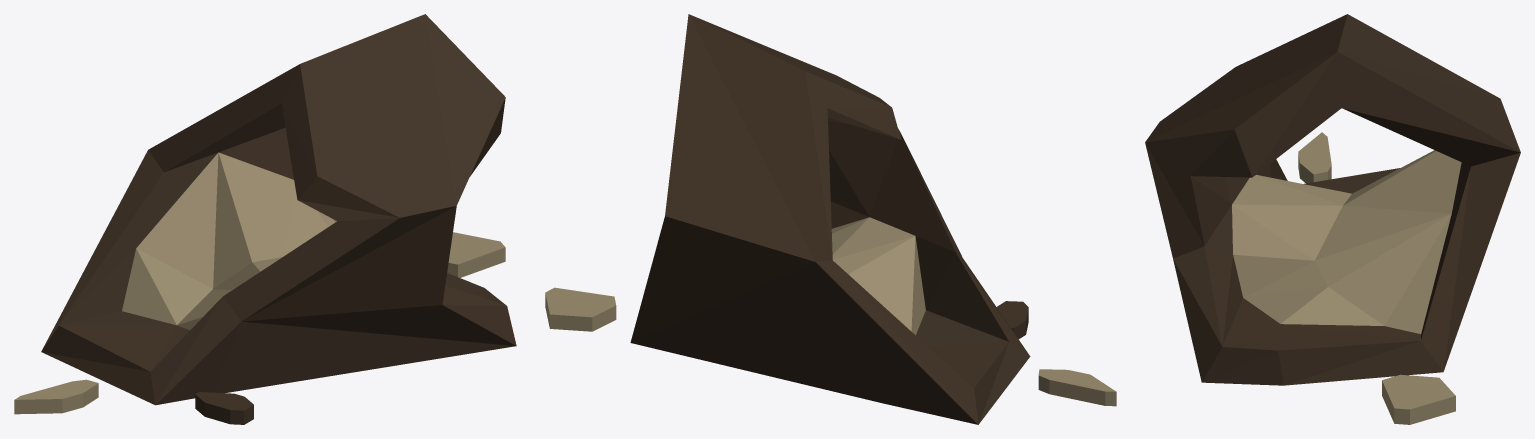
The model's file is Tree_F_06.FBX.
3 renders of one model, left to right at view 1: azimuth 30°, elevation 25°; view 2: azimuth 150°, elevation 25°; view 3: azimuth 270°, elevation 25°, orthographic. The views are drawn at different scales.
Parts seen in each view (by area): view 1: Tree_F_06; view 2: Tree_F_06; view 3: Tree_F_06.
Part boxes in pixels (x1,y1,x2,y2): Tree_F_06: (14,14,516,424); Tree_F_06: (545,14,1116,424); Tree_F_06: (1145,14,1520,424).
Bounding box in the file's own units: 1.92 × 1.02 × 1.1.
